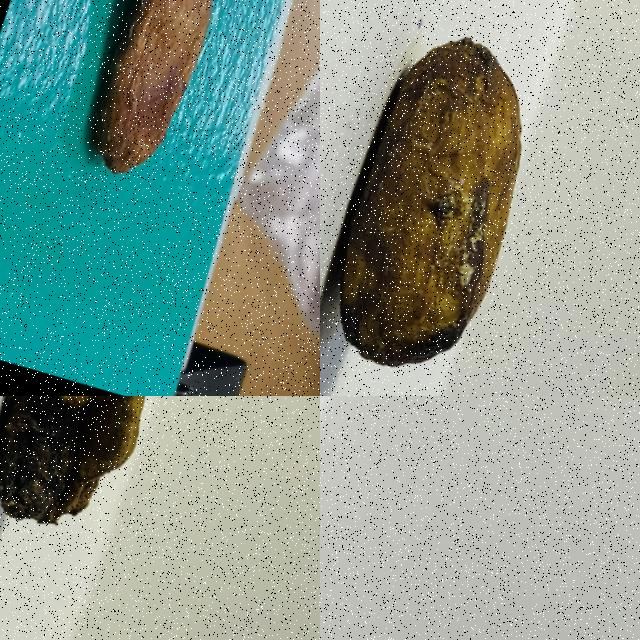Fine_cocoabeans: (320, 0, 604, 395), (320, 396, 408, 639)
Flat_cocoabeans: (0, 0, 306, 309), (0, 396, 237, 623)
